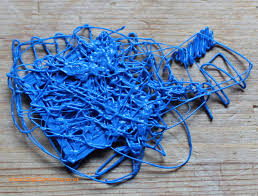fail: (9, 20, 254, 184)
